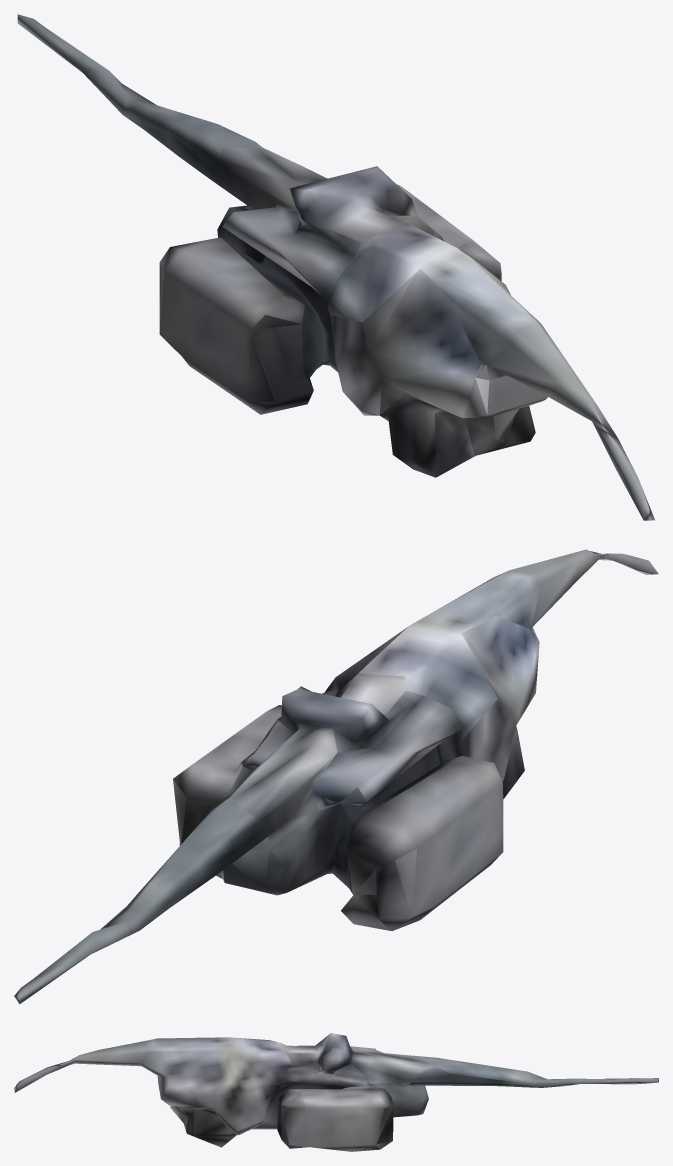
The model's file is freighter_part_3.glb.
3 views of the same model, one above another, from view 1: azimuth 30°, elevation 25°; view 2: azimuth 150°, elevation 25°; view 3: azimuth 270°, elevation 25° (orthographic). The views are drawn at different scales.
Visible parts, largest first — view 1: part3; view 2: part3; view 3: part3.
Part boxes in pixels (box(x1,y1,x2,y2)): part3: box(17, 14, 654, 520); part3: box(14, 549, 658, 1004); part3: box(14, 1033, 658, 1151).
Size of the model in its own units: 0.049 by 0.0363 by 0.2174.
1 material, 1 textured.
